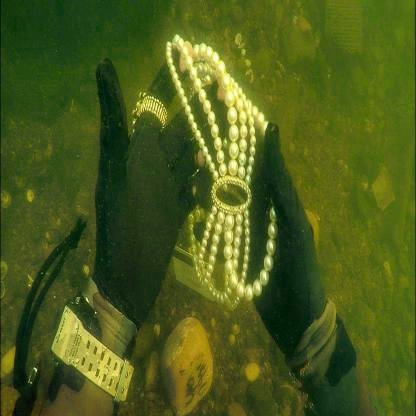misc: (165, 34, 281, 313)
